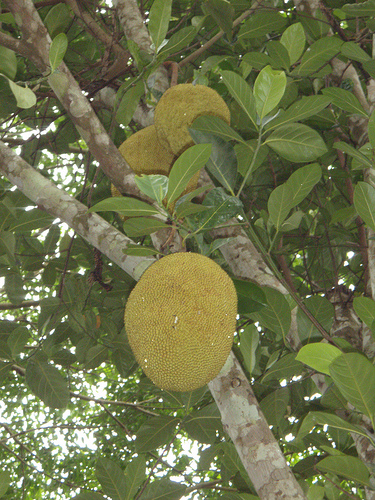jackfruit: (122, 251, 237, 393), (152, 81, 233, 161), (117, 121, 176, 170)
